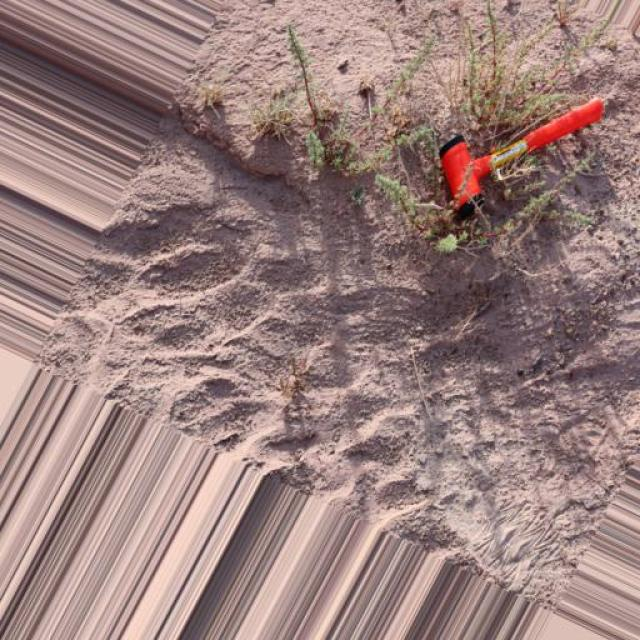mallet: (439, 94, 606, 218)
